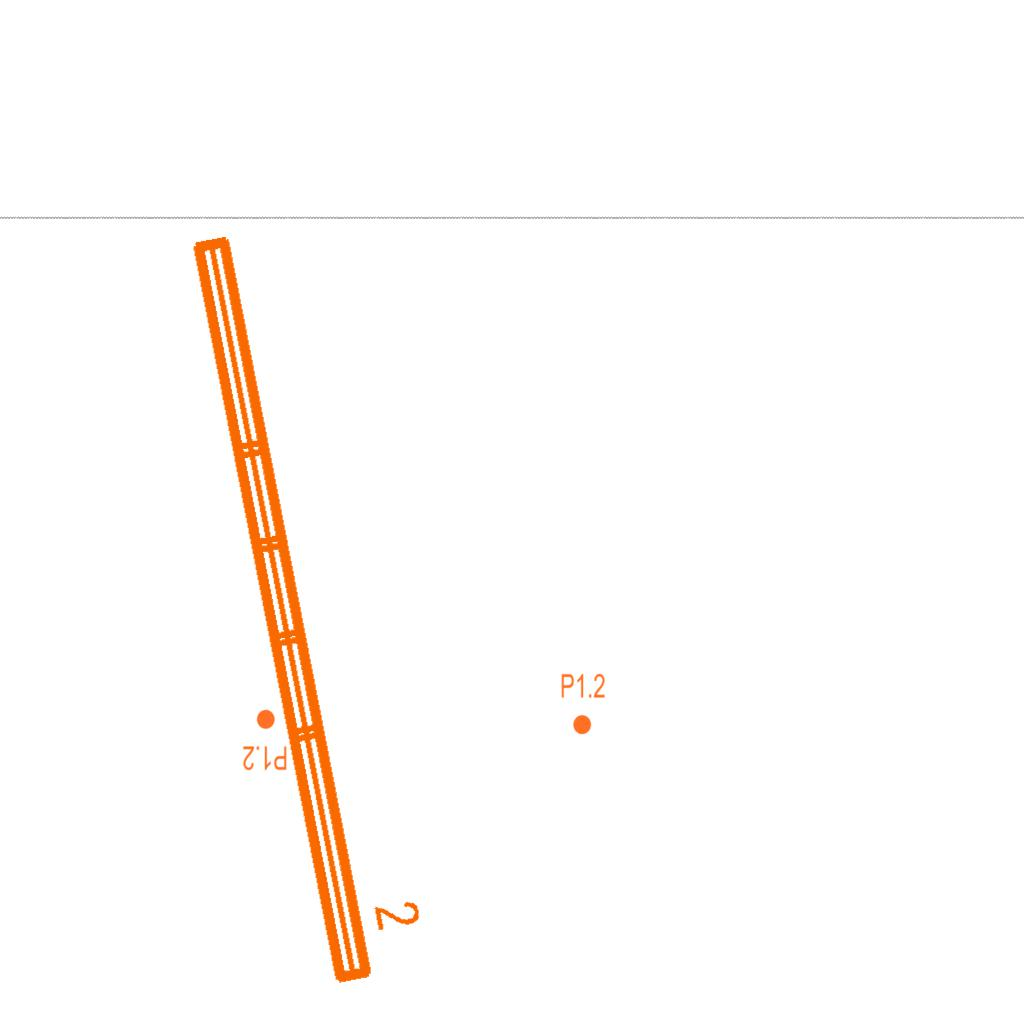Ambulanz_Pendelleuchte_LED: (178, 213, 436, 995)
Downlight_LED_Einbauleuchten_Flur: (242, 708, 288, 772), (560, 672, 606, 736)
